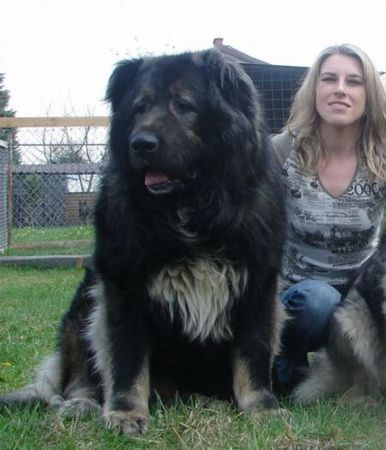cau_ovcharka: (0, 46, 288, 438)
human_face: (315, 57, 365, 126)
person: (269, 43, 384, 403)
